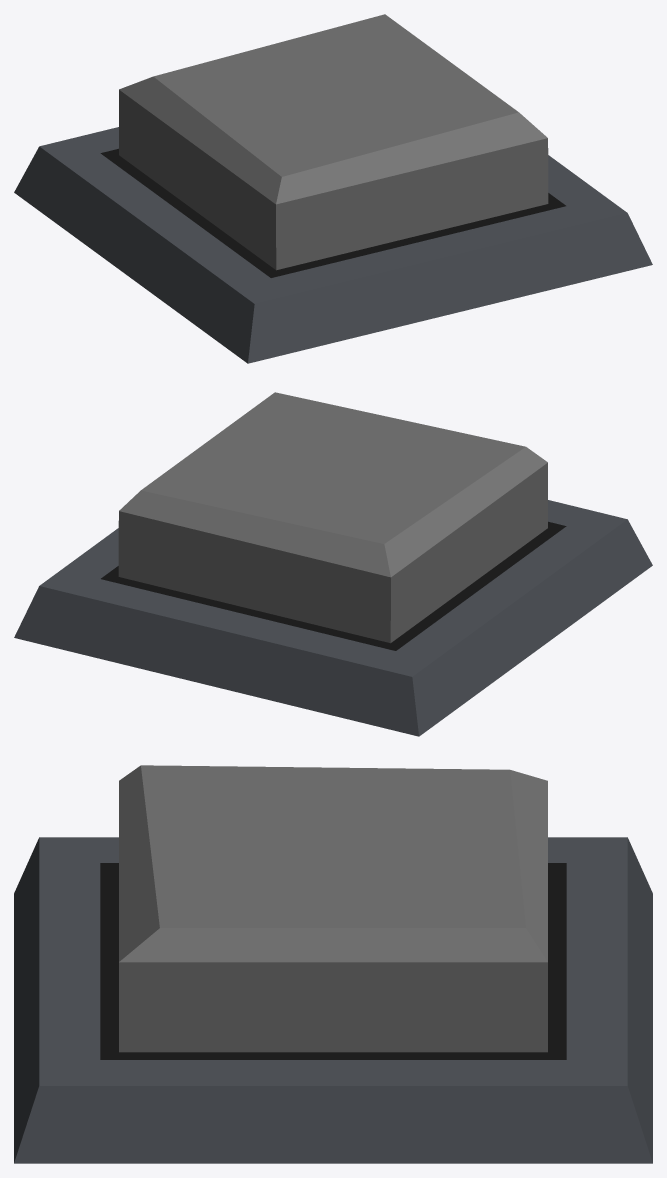
File: SM_Gen_Prop_Button_01.glb
3 views of the same model, one above another, from view 1: azimuth 30°, elevation 25°; view 2: azimuth 150°, elevation 25°; view 3: azimuth 270°, elevation 25° (orthographic). The views are drawn at different scales.
Visible parts, largest first — view 1: SM_Gen_Prop_Button_01; view 2: SM_Gen_Prop_Button_01; view 3: SM_Gen_Prop_Button_01.
Part boxes in pixels (x1,y1,x2,y2): SM_Gen_Prop_Button_01: (14, 14, 652, 363); SM_Gen_Prop_Button_01: (14, 392, 652, 736); SM_Gen_Prop_Button_01: (14, 765, 652, 1163).
Bounding box in the file's own units: 0.0917 × 0.0288 × 0.0917.
Materials: 1 (1 with a texture image).
